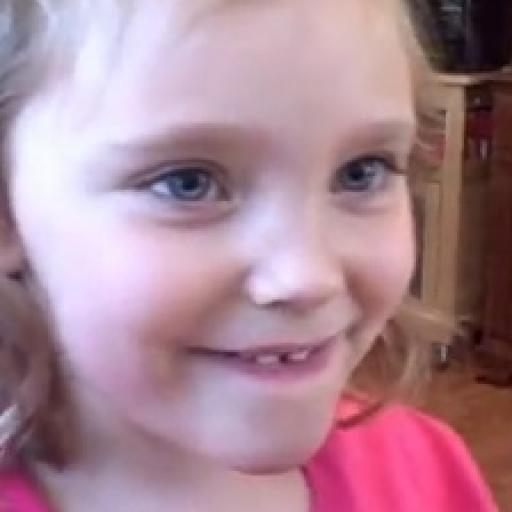Autism: (11, 22, 512, 512)
